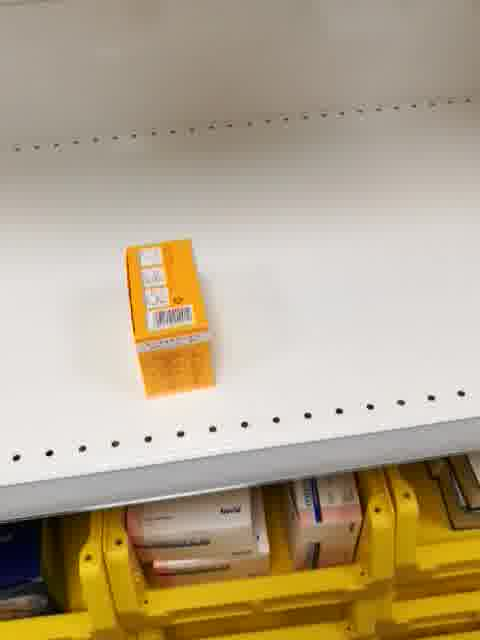jasminetea: (124, 236, 220, 401)
